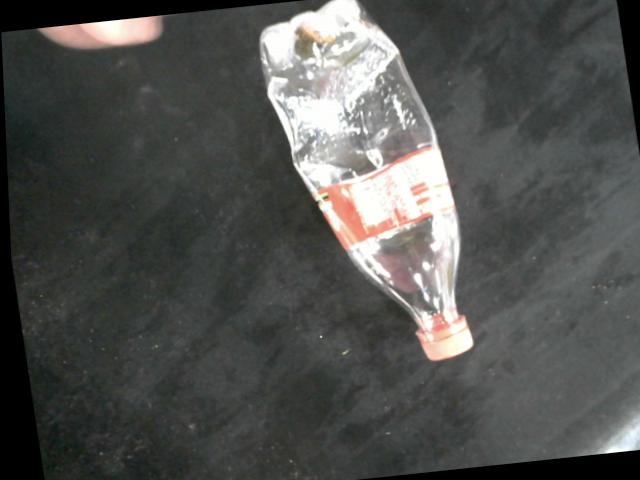bottle: (258, 0, 472, 362)
